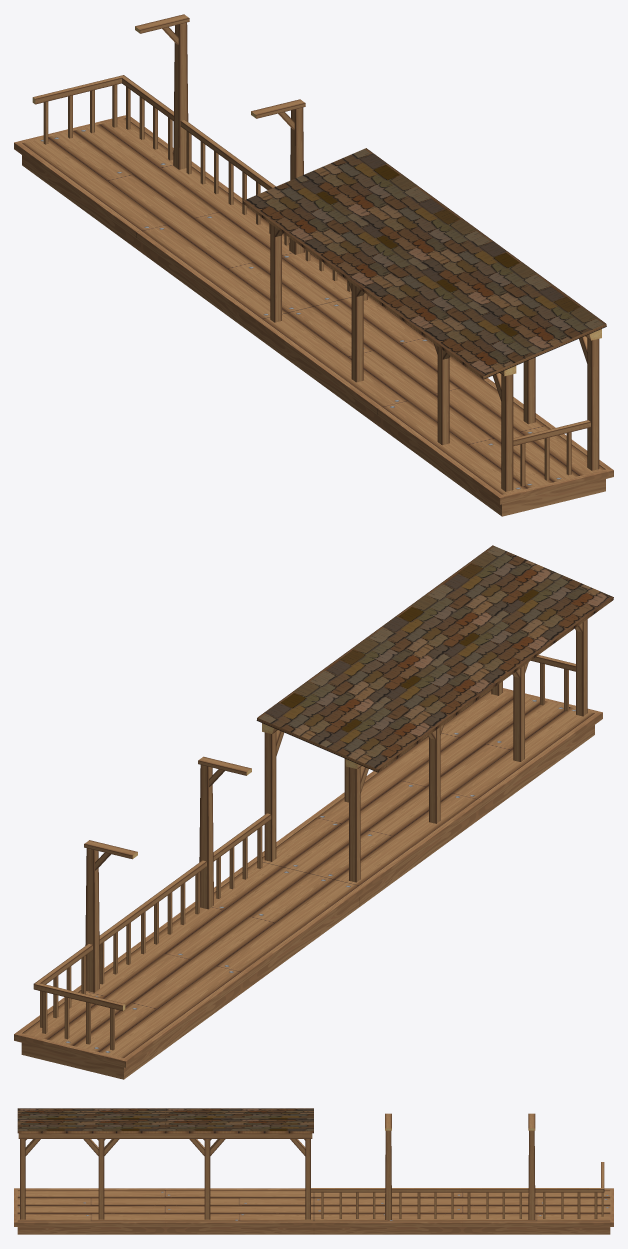
The model's file is RaiDeck_01.FBX.
3 renders of one model, top to bottom at view 1: azimuth 30°, elevation 25°; view 2: azimuth 150°, elevation 25°; view 3: azimuth 270°, elevation 25°, orthographic. The views are drawn at different scales.
Parts seen in each view (by area): view 1: RaiDeck_01; view 2: RaiDeck_01; view 3: RaiDeck_01.
Boxes of the visible parts, x1=… form: RaiDeck_01: x1=14, y1=14, x2=613, y2=516; RaiDeck_01: x1=14, y1=545, x2=613, y2=1079; RaiDeck_01: x1=14, y1=1108, x2=613, y2=1234.
Size of the model in its own units: 2.47 by 3.14 by 16.2.
